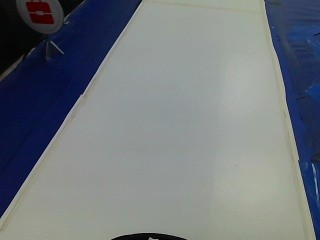company: (18, 0, 67, 35)
